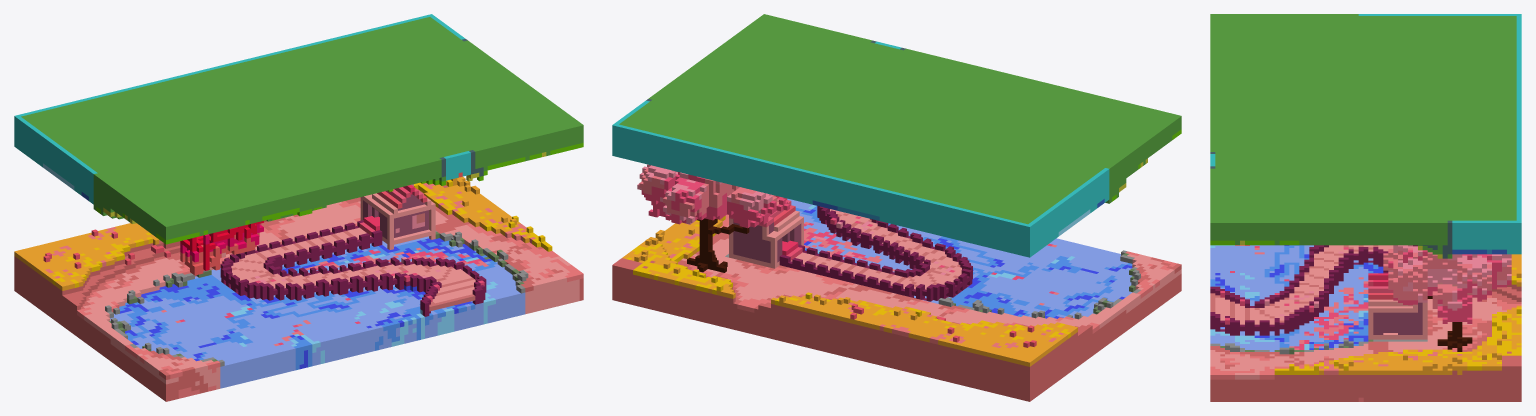
Rendered from spring.obj.
3 views of the same model, side by side, from view 1: azimuth 30°, elevation 25°; view 2: azimuth 150°, elevation 25°; view 3: azimuth 270°, elevation 25° (orthographic). The views are drawn at different scales.
Parts seen in each view (by area): view 1: spring; view 2: spring; view 3: spring.
Part boxes in pixels (<box>): spring: <box>14,14,583,401</box>; spring: <box>612,14,1181,401</box>; spring: <box>1210,14,1521,401</box>.
Size of the model in its own units: 100 by 40 by 63.
Materials: 1 (1 with a texture image).
